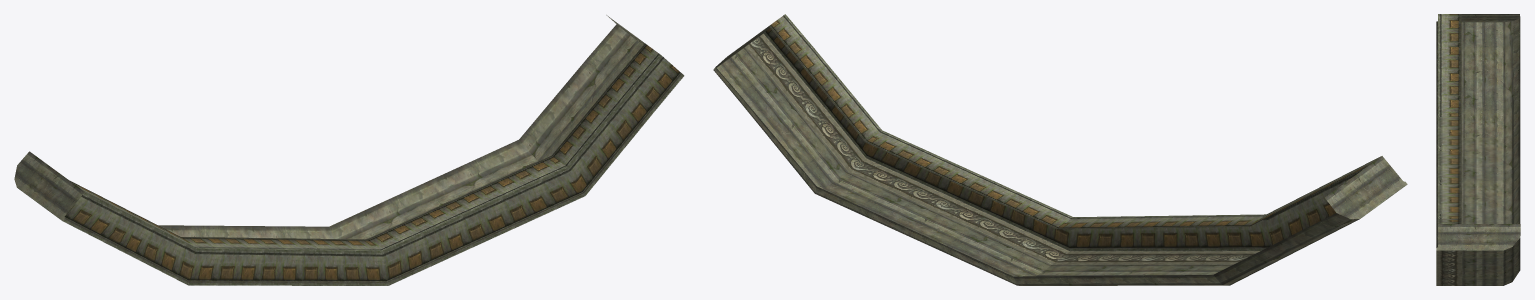
Rendered from zhucheng_yewai_291_baobian_e.obj.
3 renders of one model, left to right at view 1: azimuth 30°, elevation 25°; view 2: azimuth 150°, elevation 25°; view 3: azimuth 270°, elevation 25°, orthographic. The views are drawn at different scales.
Parts seen in each view (by area): view 1: zhucheng_yewai_291_baobian_e; view 2: zhucheng_yewai_291_baobian_e; view 3: zhucheng_yewai_291_baobian_e.
Part boxes in pixels (box(x1,y1,x2,y2)): zhucheng_yewai_291_baobian_e: box(14, 15, 684, 285); zhucheng_yewai_291_baobian_e: box(713, 14, 1407, 285); zhucheng_yewai_291_baobian_e: box(1436, 14, 1520, 285).
Bounding box in the file's own units: 1991 × 511 × 318.
3 materials, 3 textured.
